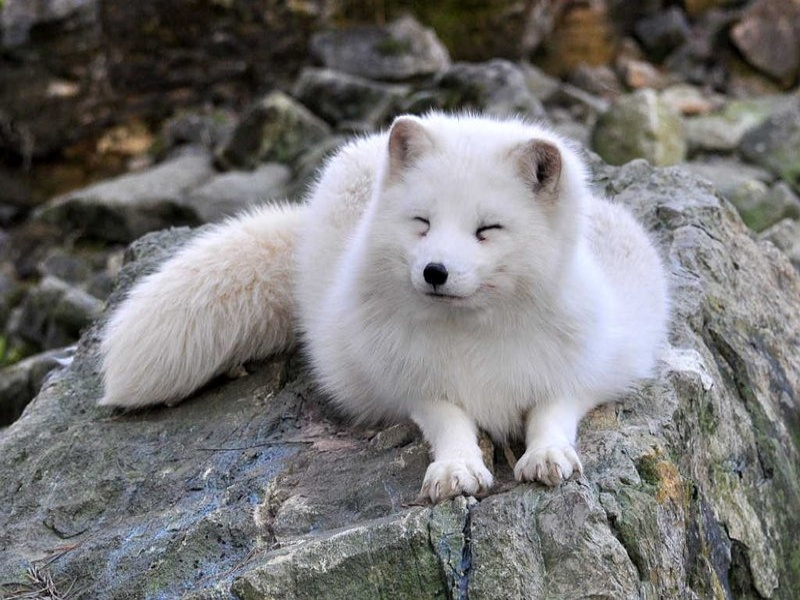fox: (102, 115, 674, 491)
